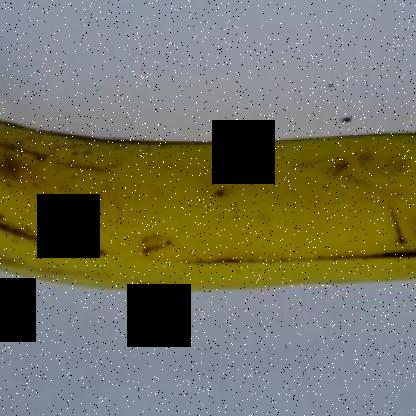ripe: (1, 79, 415, 322)
